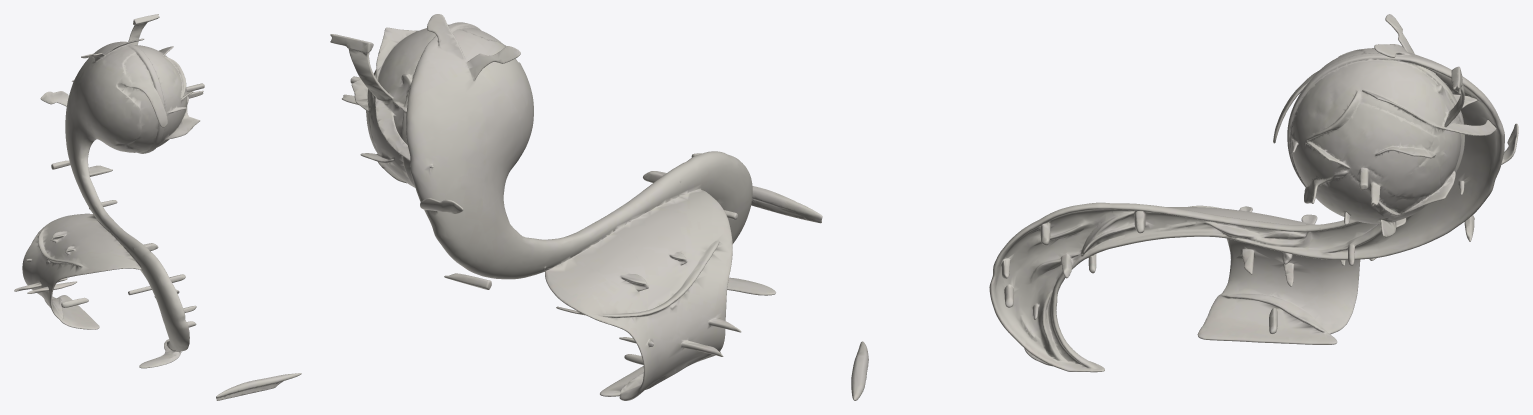
The model's file is veras-tripo-s1.glb.
3 renders of one model, left to right at view 1: azimuth 30°, elevation 25°; view 2: azimuth 150°, elevation 25°; view 3: azimuth 270°, elevation 25°, orthographic. The views are drawn at different scales.
Parts seen in each view (by area): view 1: tripo_node_96f17e8f-cae1-4284-b9ae-c8b0804673c5; view 2: tripo_node_96f17e8f-cae1-4284-b9ae-c8b0804673c5; view 3: tripo_node_96f17e8f-cae1-4284-b9ae-c8b0804673c5.
Boxes of the visible parts, x1,y1,x2,y2 form: tripo_node_96f17e8f-cae1-4284-b9ae-c8b0804673c5: (14, 14, 301, 400); tripo_node_96f17e8f-cae1-4284-b9ae-c8b0804673c5: (330, 14, 822, 400); tripo_node_96f17e8f-cae1-4284-b9ae-c8b0804673c5: (851, 14, 1518, 400).
Size of the model in its own units: 0.6023 by 0.6107 by 0.9999.
1 material, 1 textured.
